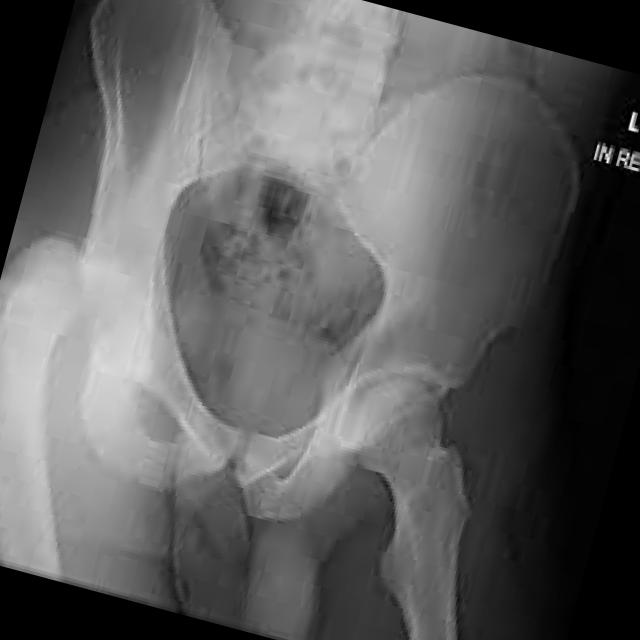normal-left: (353, 379, 474, 640)
right-dislocation: (0, 237, 86, 580)
